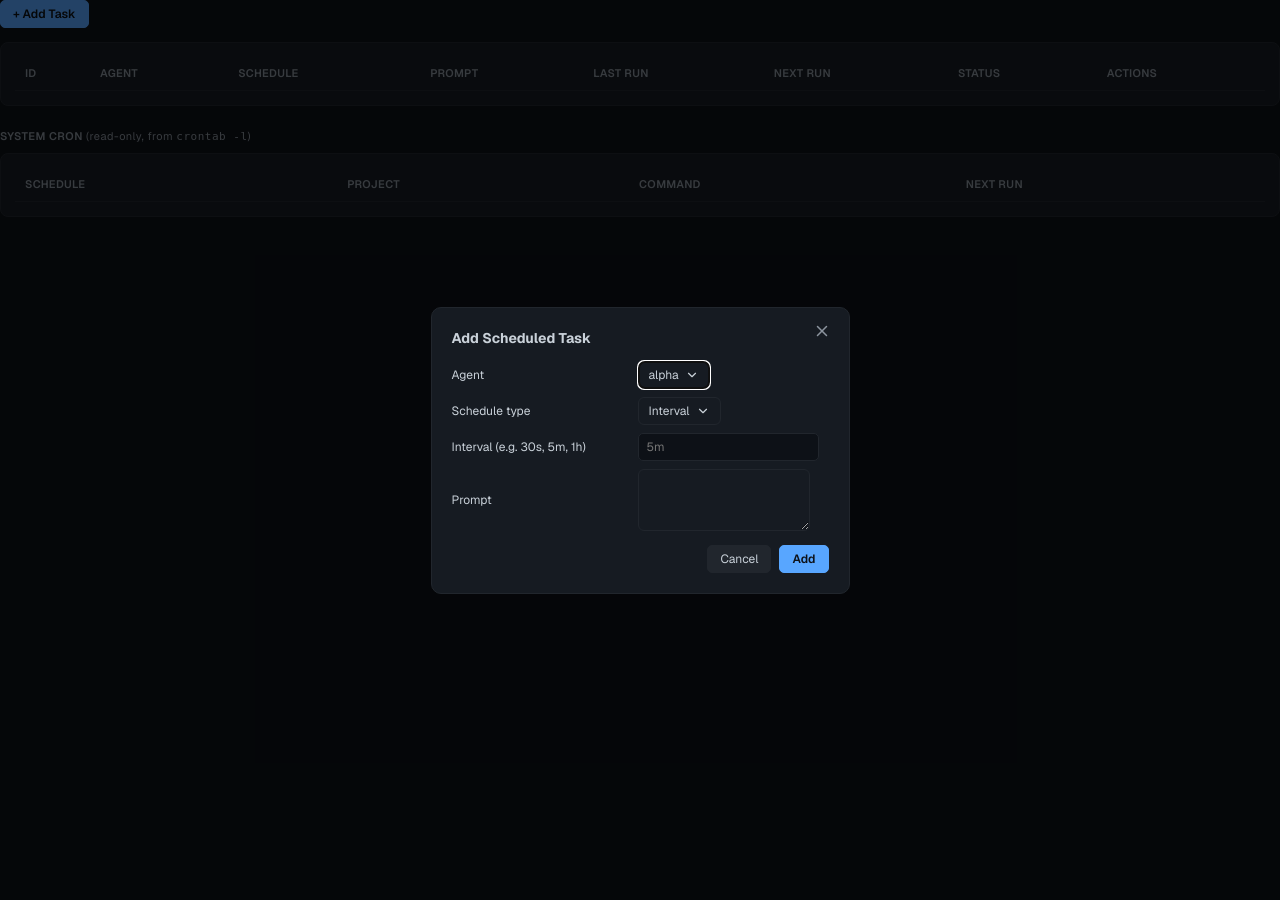
Test case: showAddSchedule opens the dialog from outside (the ⌘K palette); Cancel closes it
The width and height of the screenshot is (1280, 900).
Expected: the dialog "Add Scheduled Task" is shown, [430,306,850,594]
Click the button "Cancel": (739, 558) [707,544,772,572]
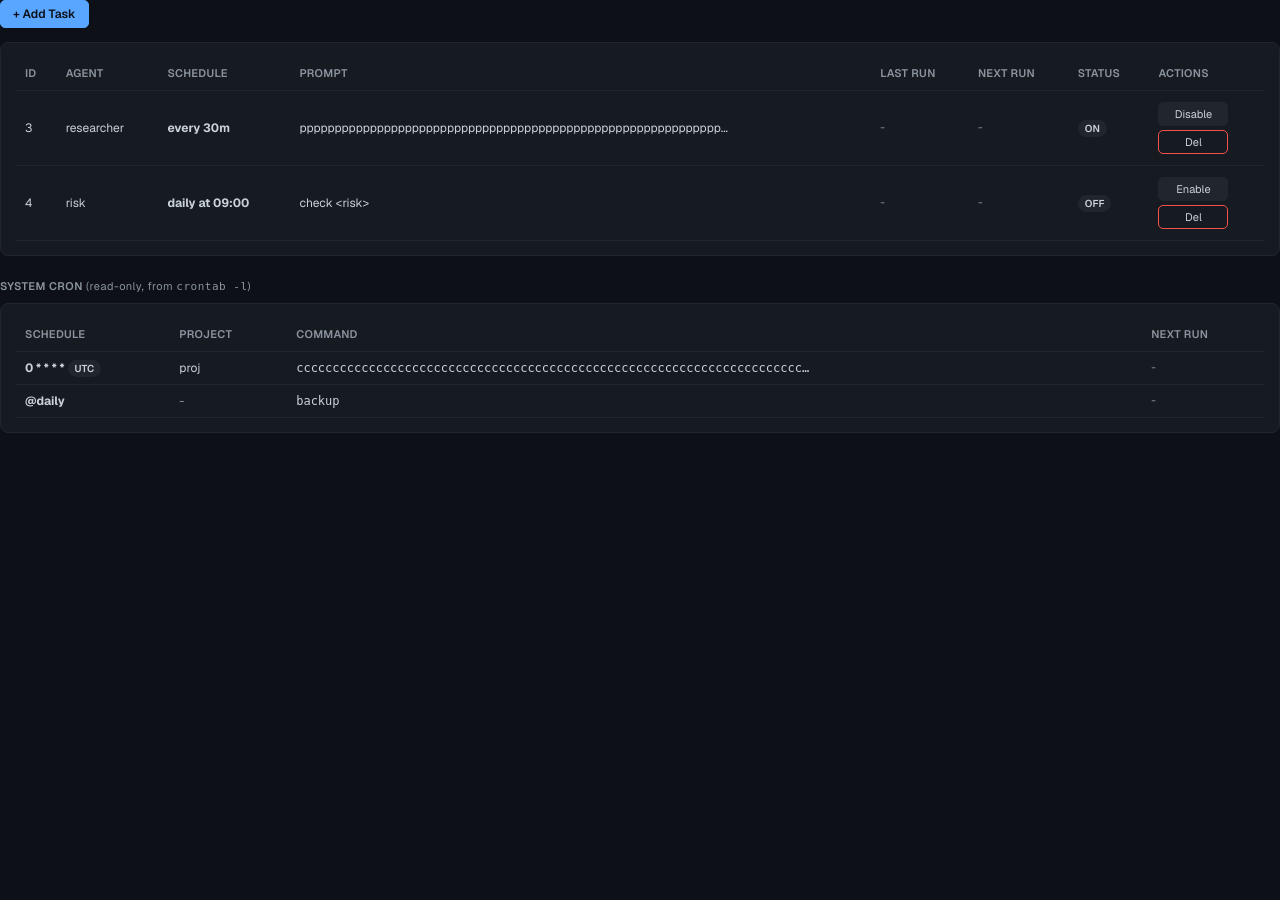
Expected: the dialog is gone
